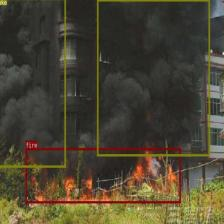fire: (25, 148, 181, 203)
smoke: (97, 0, 209, 156), (0, 0, 65, 166)
